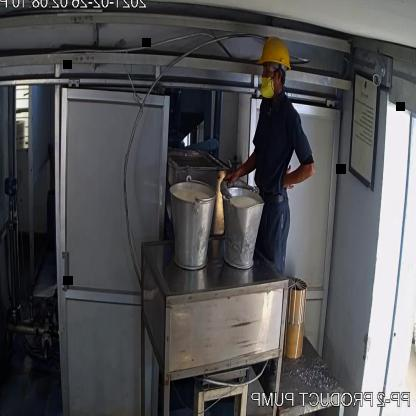helmet: (248, 34, 296, 75)
